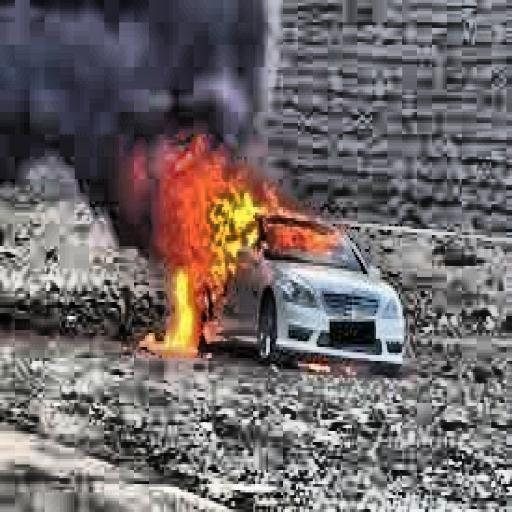fire: (140, 140, 335, 352)
